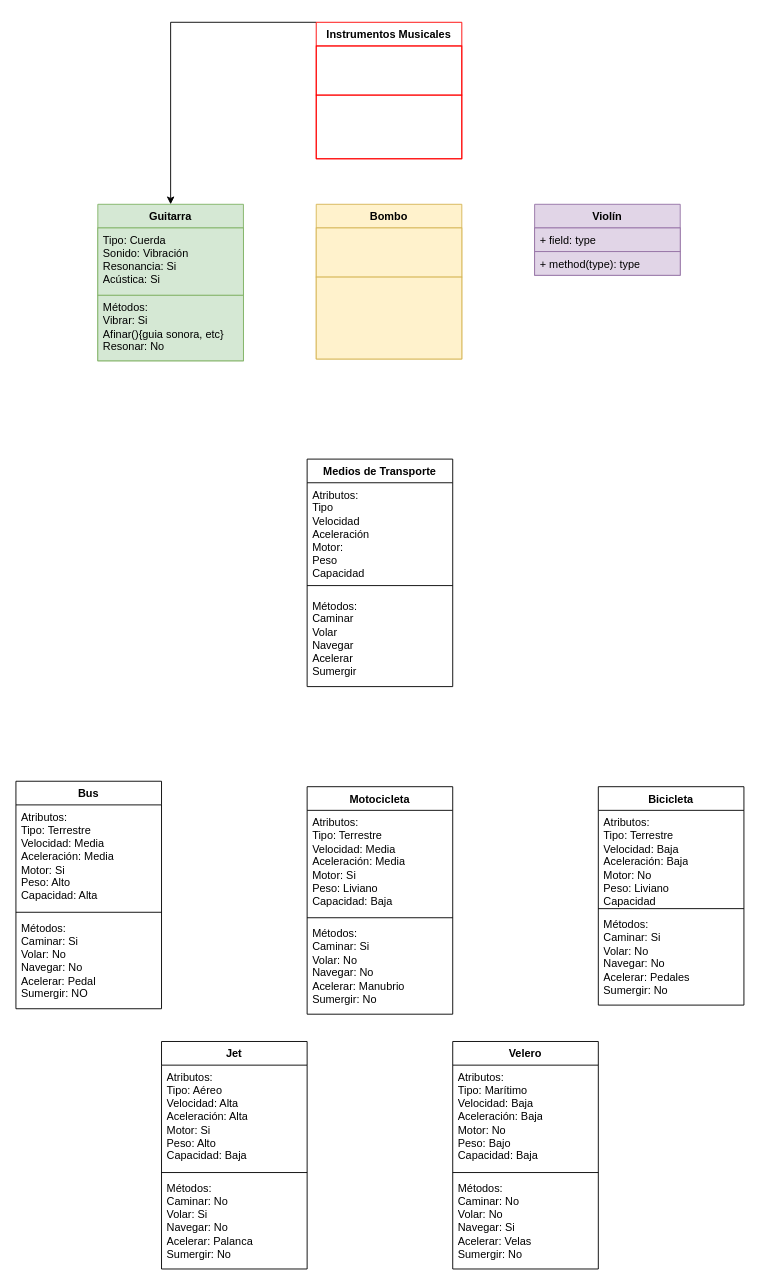
Image size: 760x1288. Some labels were removed from this diagram. The shapes that lost their labels are listed below. From the top down, each one's centre as x and y in pixels, then its label:
At point 388,70: "Atributos: Sonido, resonancia, acústica, tono.".
At point 388,126: "Métodos: Vibrar Afinar Resonar".
At point 388,252: "Tipo: Percusión Sonido: Vibración Resonancia: Si".
At point 388,317: "Métodos: Vibrar: Si Afinar(){Verificar tensión del parche} Resonar: Si".
